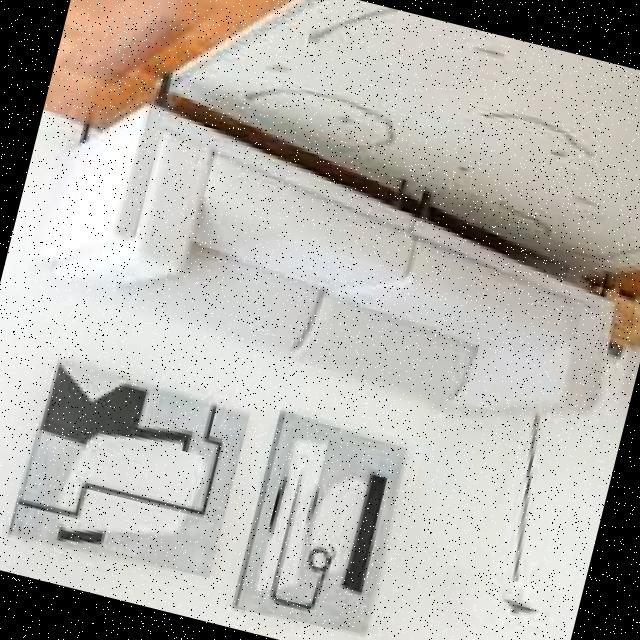Sofa: (6, 44, 640, 484)
